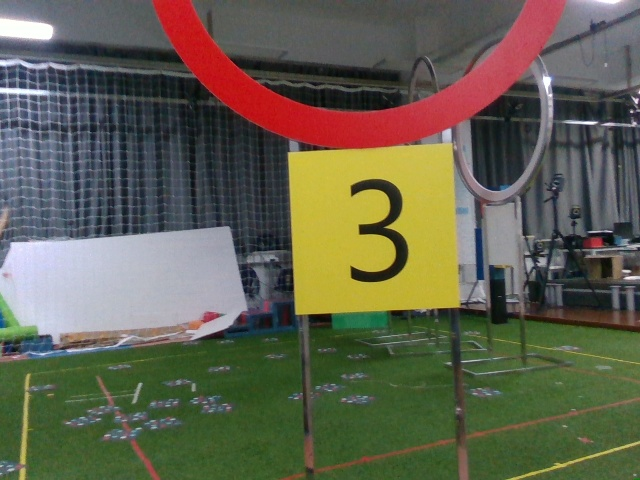target: (299, 157, 454, 301)
